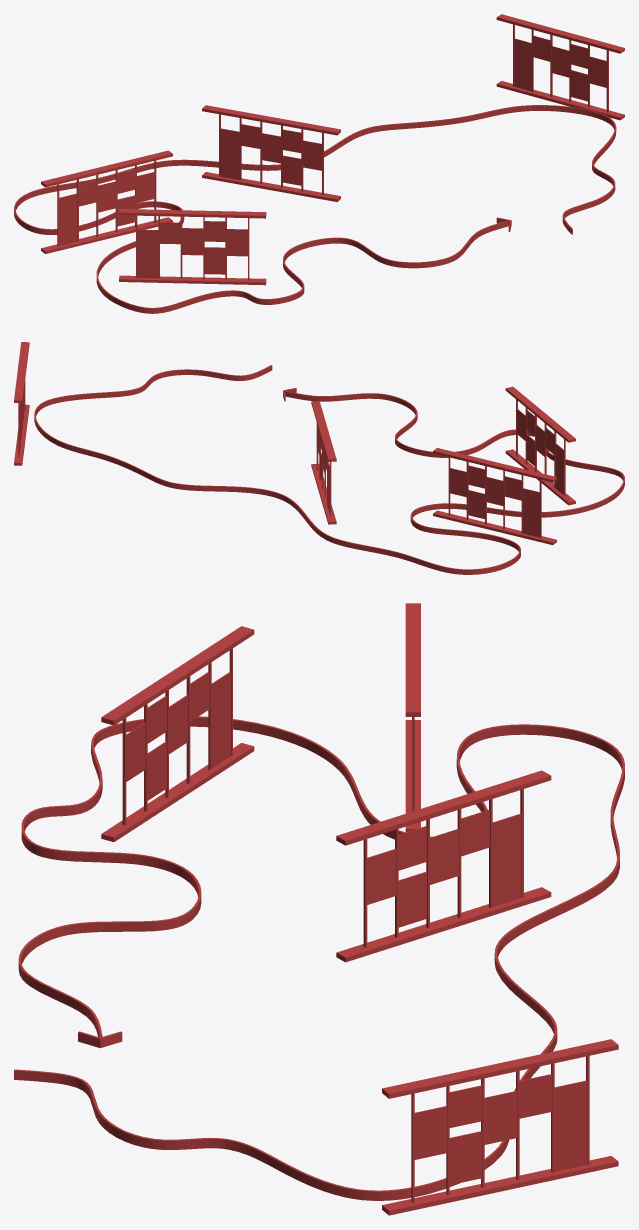
File: mod2.obj
The picture shows the model from 3 angles, top to bottom: view 1: azimuth 30°, elevation 25°; view 2: azimuth 150°, elevation 25°; view 3: azimuth 270°, elevation 25°; orthographic projection. The views are drawn at different scales.
Visible parts, largest first — view 1: Obj_000001, Obj_000092, Obj_000094, Obj_000108, Obj_000095, Obj_000080, Obj_000106, Obj_000065, Obj_000109, Obj_000078, Obj_000067, Obj_000081 (+17 smaller); view 2: Obj_000001, Obj_000080, Obj_000081, Obj_000078, Obj_000094, Obj_000108, Obj_000065, Obj_000095, Obj_000109, Obj_000077, Obj_000076, Obj_000073 (+4 smaller); view 3: Obj_000001, Obj_000065, Obj_000108, Obj_000067, Obj_000064, Obj_000109, Obj_000106, Obj_000094, Obj_000095, Obj_000080, Obj_000092, Obj_000072 (+13 smaller).
Part boxes in pixels (x1,y1,x2,y2): Obj_000001: [14, 105, 616, 313]; Obj_000092: [137, 229, 158, 278]; Obj_000094: [119, 209, 266, 218]; Obj_000108: [202, 105, 340, 135]; Obj_000095: [119, 275, 266, 285]; Obj_000080: [41, 150, 172, 187]; Obj_000106: [220, 128, 239, 179]; Obj_000065: [496, 14, 624, 53]; Obj_000109: [202, 172, 340, 201]; Obj_000078: [59, 193, 77, 245]; Obj_000067: [514, 38, 531, 91]; Obj_000081: [41, 217, 172, 253]; Obj_000001: [34, 365, 624, 574]; Obj_000080: [433, 448, 556, 482]; Obj_000081: [433, 510, 556, 545]; Obj_000078: [523, 488, 539, 537]; Obj_000094: [505, 386, 575, 442]; Obj_000108: [311, 401, 336, 461]; Obj_000065: [14, 342, 29, 402]; Obj_000095: [505, 449, 575, 505]; Obj_000109: [311, 463, 336, 524]; Obj_000077: [486, 477, 503, 505]; Obj_000076: [468, 490, 484, 519]; Obj_000073: [450, 468, 466, 497]; Obj_000001: [14, 716, 624, 1200]; Obj_000065: [382, 1039, 618, 1098]; Obj_000108: [336, 770, 551, 845]; Obj_000067: [554, 1080, 586, 1171]; Obj_000064: [382, 1156, 618, 1215]; Obj_000109: [336, 887, 551, 962]; Obj_000106: [492, 813, 521, 906]; Obj_000094: [101, 626, 254, 725]; Obj_000095: [101, 743, 254, 841]; Obj_000080: [405, 603, 420, 716]; Obj_000092: [211, 671, 230, 768]; Obj_000072: [414, 1106, 447, 1159].
Bounding box in the file's own units: 22555 × 2600 × 11863.
